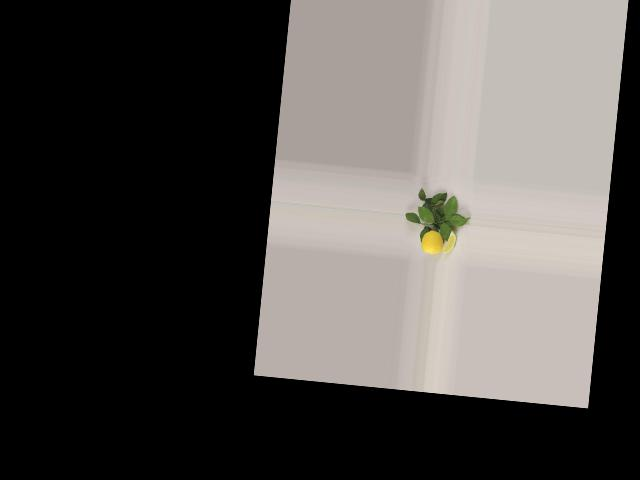lemon: (419, 226, 442, 254)
